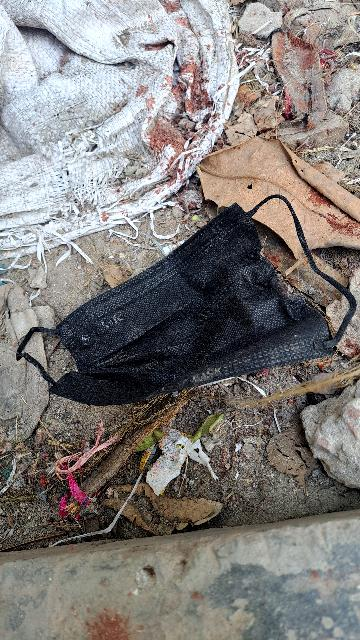mask: (40, 199, 340, 480)
